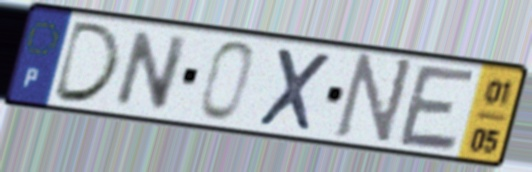0: (195, 37, 261, 125)
D: (48, 18, 125, 106)
E: (394, 61, 480, 155)
N: (330, 51, 418, 149), (109, 28, 193, 113)
X: (254, 44, 335, 136)
